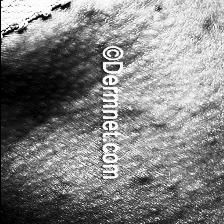Toxin: (156, 45, 218, 177), (16, 74, 76, 201), (84, 0, 168, 33), (110, 194, 182, 223)
